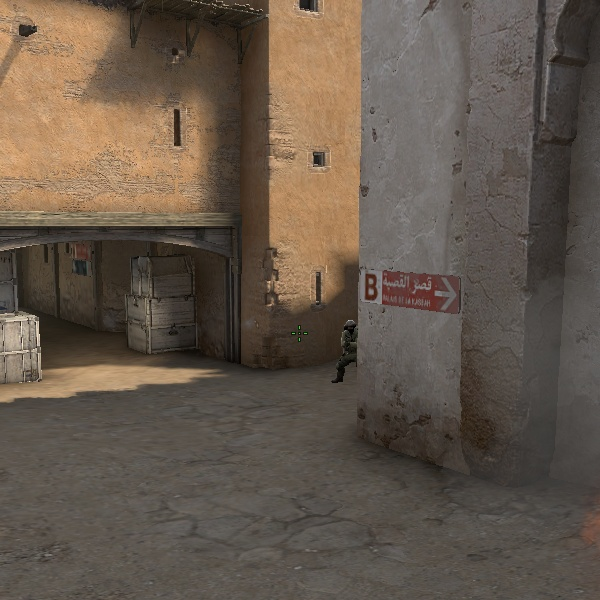ct_body: (330, 317, 358, 386)
ct_head: (344, 318, 358, 335)
